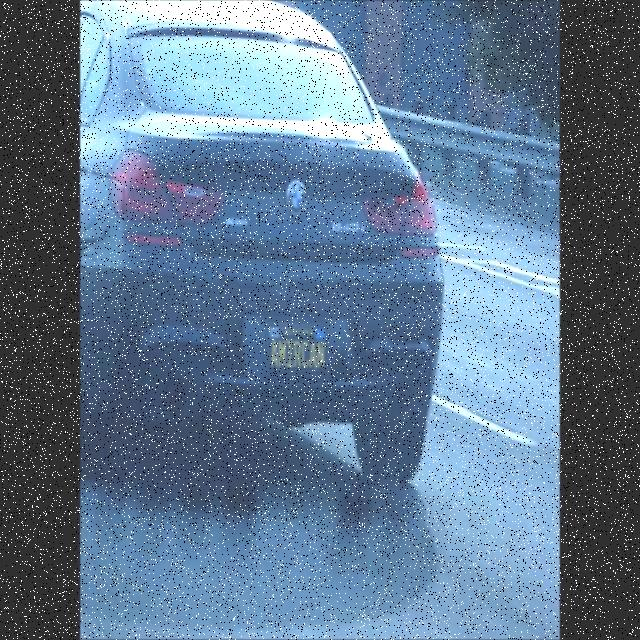licenseplate: (264, 312, 335, 380)
